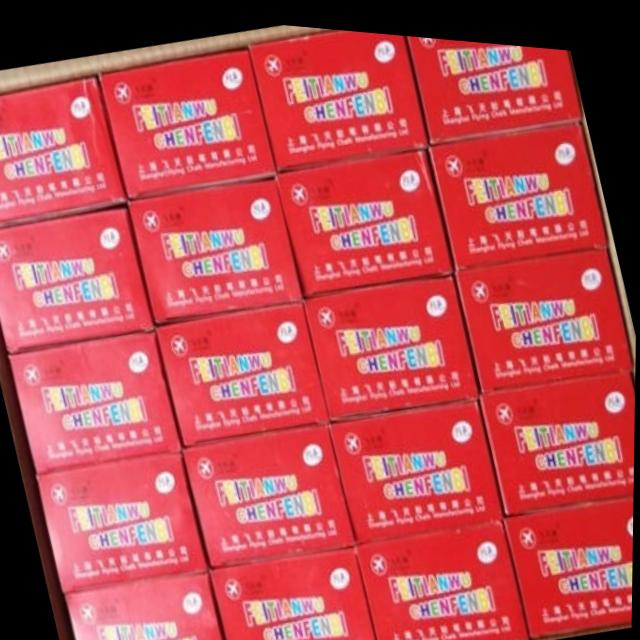box: (430, 111, 608, 265), (100, 44, 277, 195), (328, 390, 508, 537), (277, 140, 453, 290), (305, 265, 481, 415), (458, 237, 636, 384), (248, 23, 430, 166), (128, 172, 302, 321), (156, 295, 331, 442), (183, 418, 356, 564), (12, 326, 182, 473), (38, 449, 209, 592), (0, 201, 153, 352), (481, 360, 636, 506), (357, 512, 529, 640), (504, 484, 635, 630), (0, 76, 126, 226), (407, 28, 582, 136), (208, 540, 380, 640), (66, 565, 228, 640)
